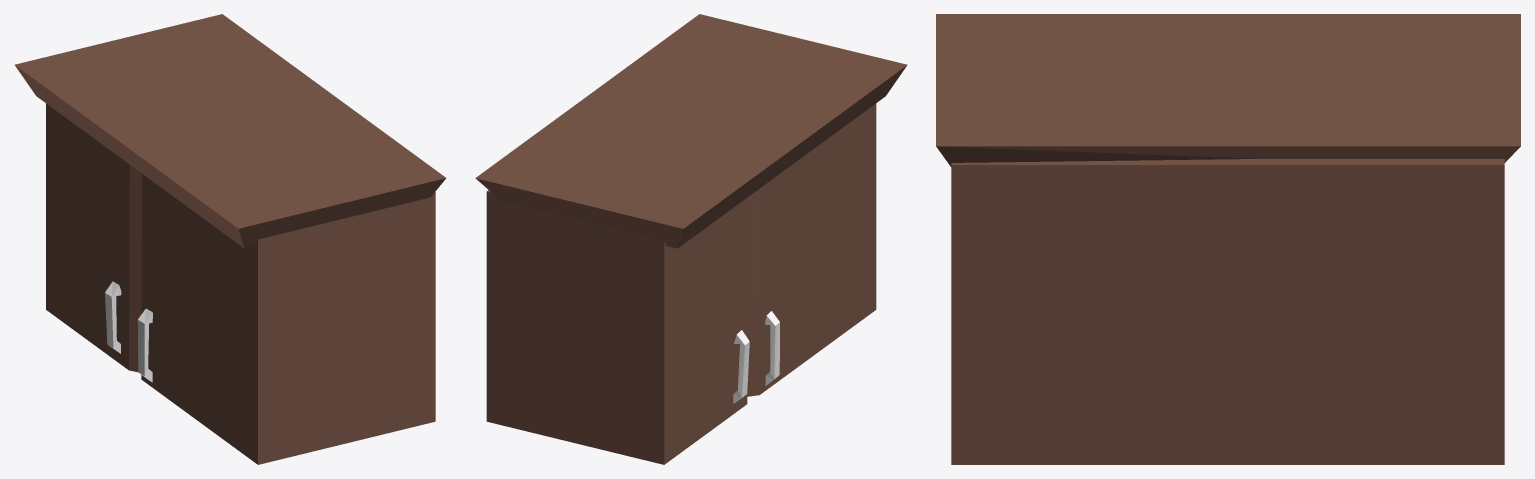
Rendered from uppershelf ORIGIN.fbx.
3 renders of one model, left to right at view 1: azimuth 30°, elevation 25°; view 2: azimuth 150°, elevation 25°; view 3: azimuth 270°, elevation 25°, orthographic. The views are drawn at different scales.
Visible parts, largest first — view 1: group748160171.028, group748160171.026, group748160171.025, group748160171.027, group748160171.022, group748160171.051, group748160171.024, group748160171.021, group748160171.012, group748160171.023, group748160171.011, group748160171.037 (+37 smaller); view 2: group748160171.042, group748160171.038, group748160171.041, group748160171.039, group748160171.040, group748160171.004, group748160171.021, group748160171.012, group748160171.052, group748160171.011, group748160171.037, group748160171.015 (+37 smaller); view 3: group748160171.052, group748160171.037, group748160171.028, group748160171.044, group748160171.043, group748160171.032, group748160171.025, group748160171.048, group748160171.039, group748160171.022, group748160171.012, group748160171.038 (+34 smaller).
Part boxes in pixels (<box>): group748160171.028: <box>224,329,435,464</box>; group748160171.026: <box>238,238,435,333</box>; group748160171.025: <box>215,192,435,281</box>; group748160171.027: <box>230,290,435,372</box>; group748160171.022: <box>353,150,446,212</box>; group748160171.051: <box>99,249,141,372</box>; group748160171.024: <box>201,188,296,248</box>; group748160171.021: <box>257,141,355,187</box>; group748160171.012: <box>192,54,291,110</box>; group748160171.023: <box>259,179,372,231</box>; group748160171.011: <box>104,89,195,172</box>; group748160171.037: <box>158,267,203,356</box>; group748160171.042: <box>486,354,702,464</box>; group748160171.038: <box>486,191,701,295</box>; group748160171.041: <box>486,315,690,396</box>; group748160171.039: <box>486,245,714,325</box>; group748160171.040: <box>486,283,694,358</box>; group748160171.004: <box>604,192,714,248</box>; group748160171.021: <box>678,46,813,93</box>; group748160171.012: <box>530,119,686,156</box>; group748160171.052: <box>747,286,780,396</box>; group748160171.011: <box>643,131,795,188</box>; group748160171.037: <box>776,203,822,332</box>; group748160171.015: <box>607,97,749,140</box>; group748160171.052: <box>1114,214,1371,464</box>; group748160171.037: <box>1092,266,1211,403</box>; group748160171.028: <box>951,344,1039,464</box>; group748160171.044: <box>1348,280,1462,383</box>; group748160171.043: <box>1328,381,1462,464</box>; group748160171.032: <box>1002,266,1113,365</box>; group748160171.025: <box>951,165,1070,237</box>; group748160171.048: <box>1203,165,1338,219</box>; group748160171.039: <box>1372,214,1504,288</box>; group748160171.022: <box>936,91,1037,166</box>; group748160171.012: <box>1248,69,1390,164</box>; group748160171.038: <box>1406,165,1504,244</box>.
Bounding box in the file's own units: 60 × 68 × 112.
